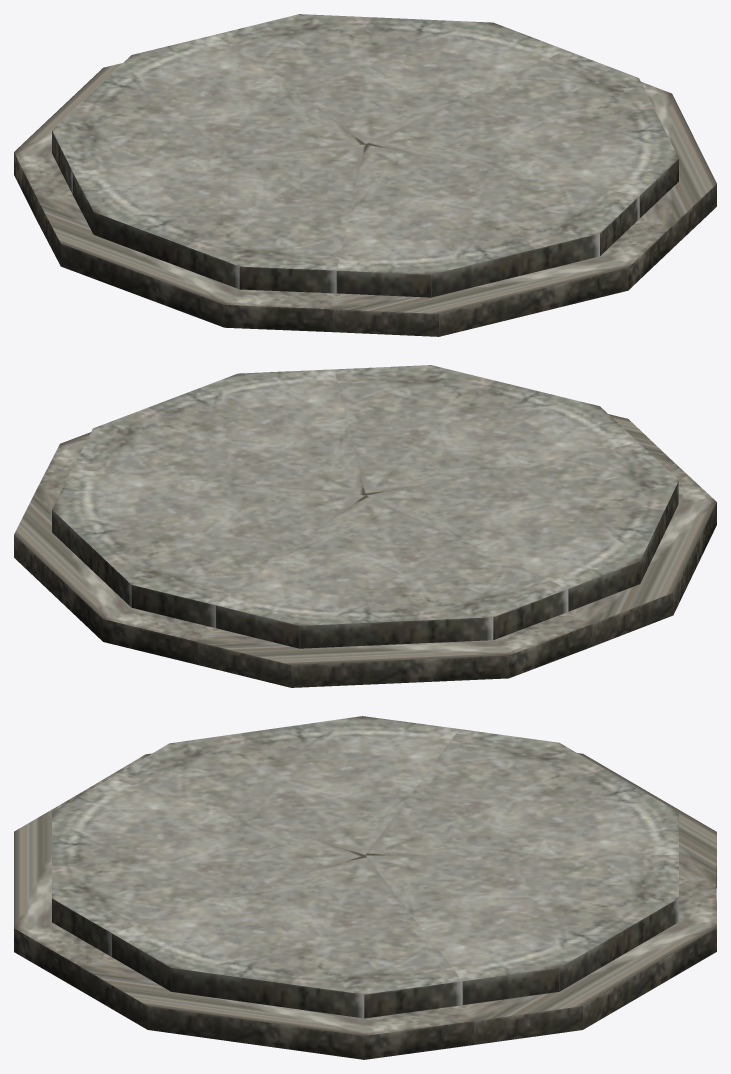
The model's file is warpgate02_01_lod_01.fbx.
3 views of the same model, one above another, from view 1: azimuth 30°, elevation 25°; view 2: azimuth 150°, elevation 25°; view 3: azimuth 270°, elevation 25° (orthographic). The views are drawn at different scales.
Visible parts, largest first — view 1: gate02; view 2: gate02; view 3: gate02.
Part boxes in pixels (x1=…): gate02: x1=14, y1=14, x2=716, y2=336; gate02: x1=14, y1=365, x2=716, y2=687; gate02: x1=14, y1=716, x2=716, y2=1059.
Size of the model in its own units: 12.17 by 0.8804 by 11.58.
